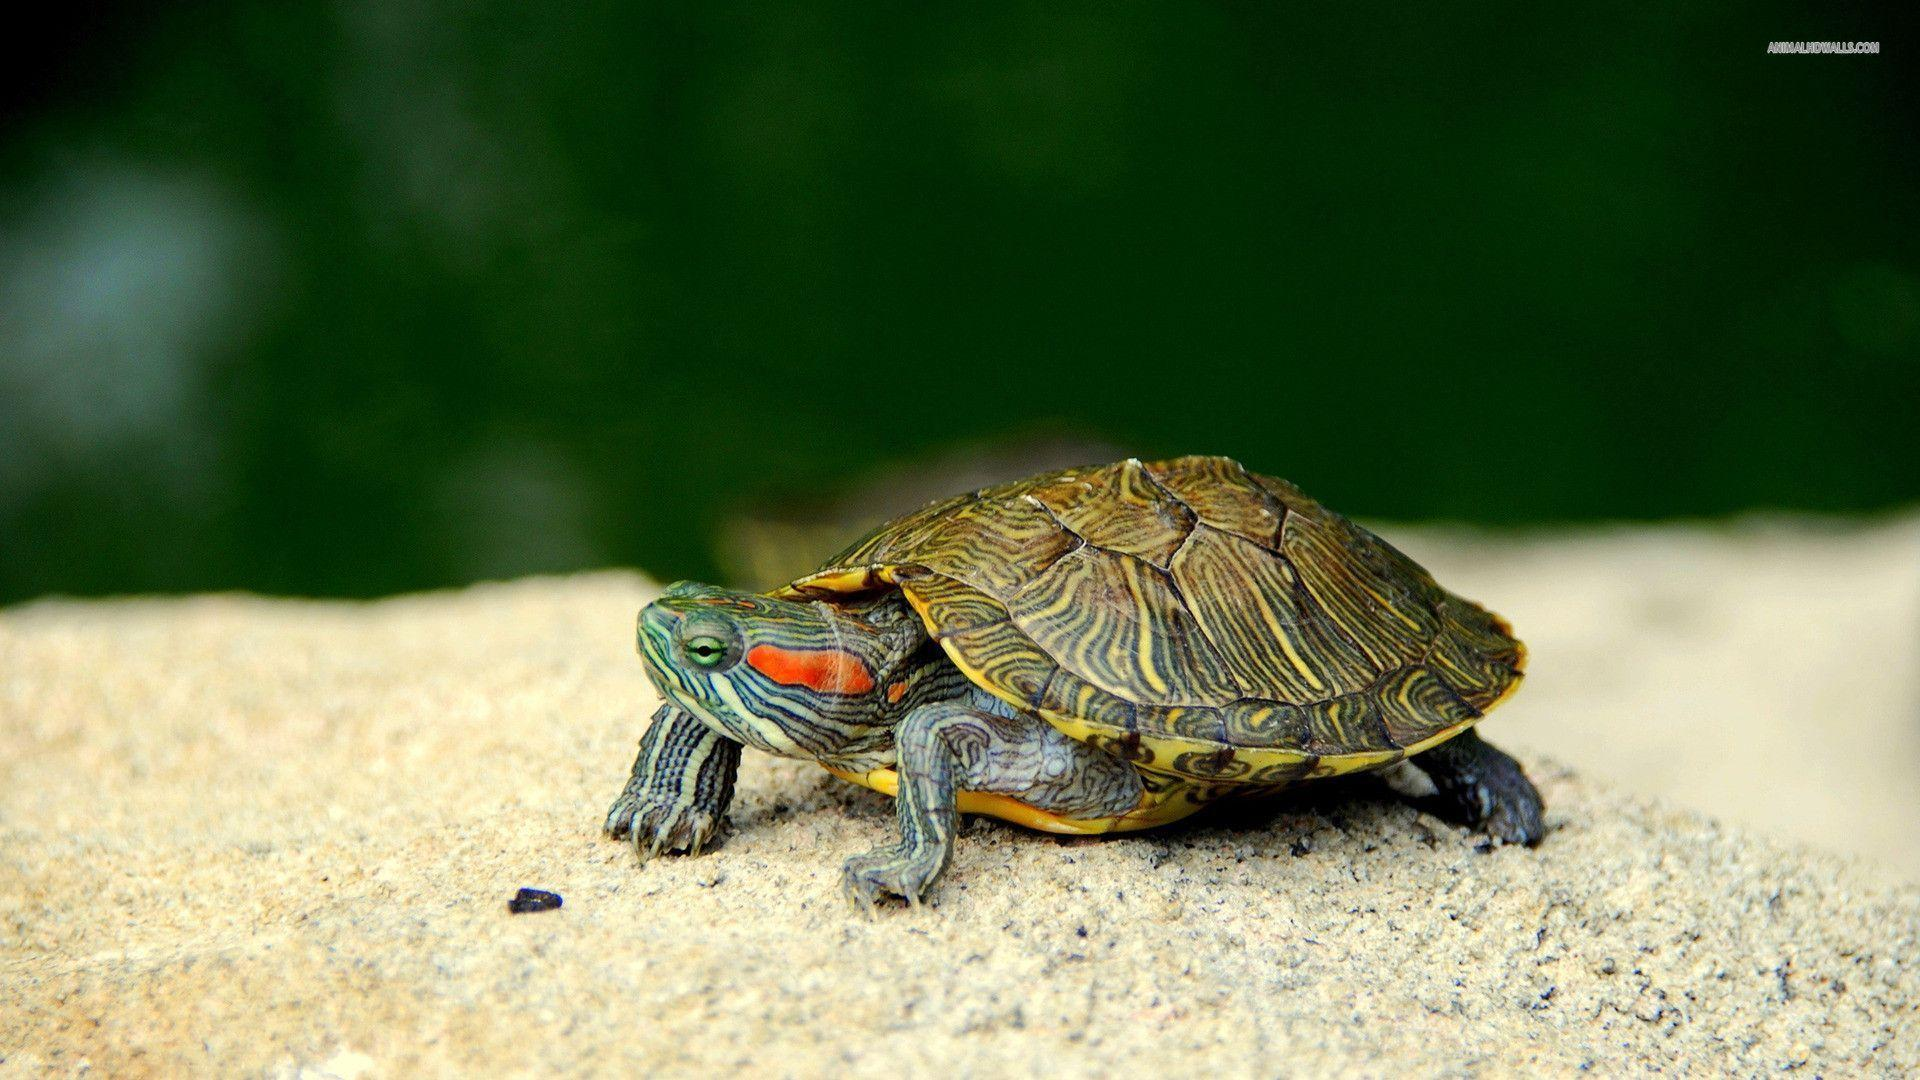eye: (673, 609, 742, 675)
mouth: (636, 645, 740, 738)
